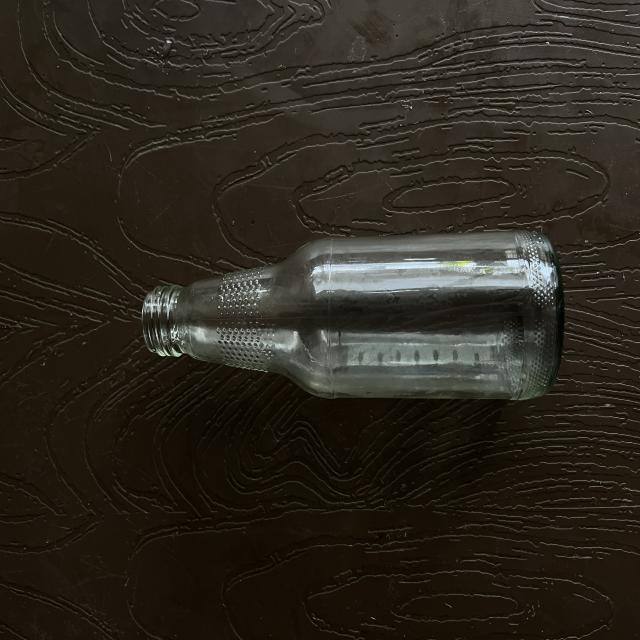Glass_Bottle: (142, 231, 563, 399)
